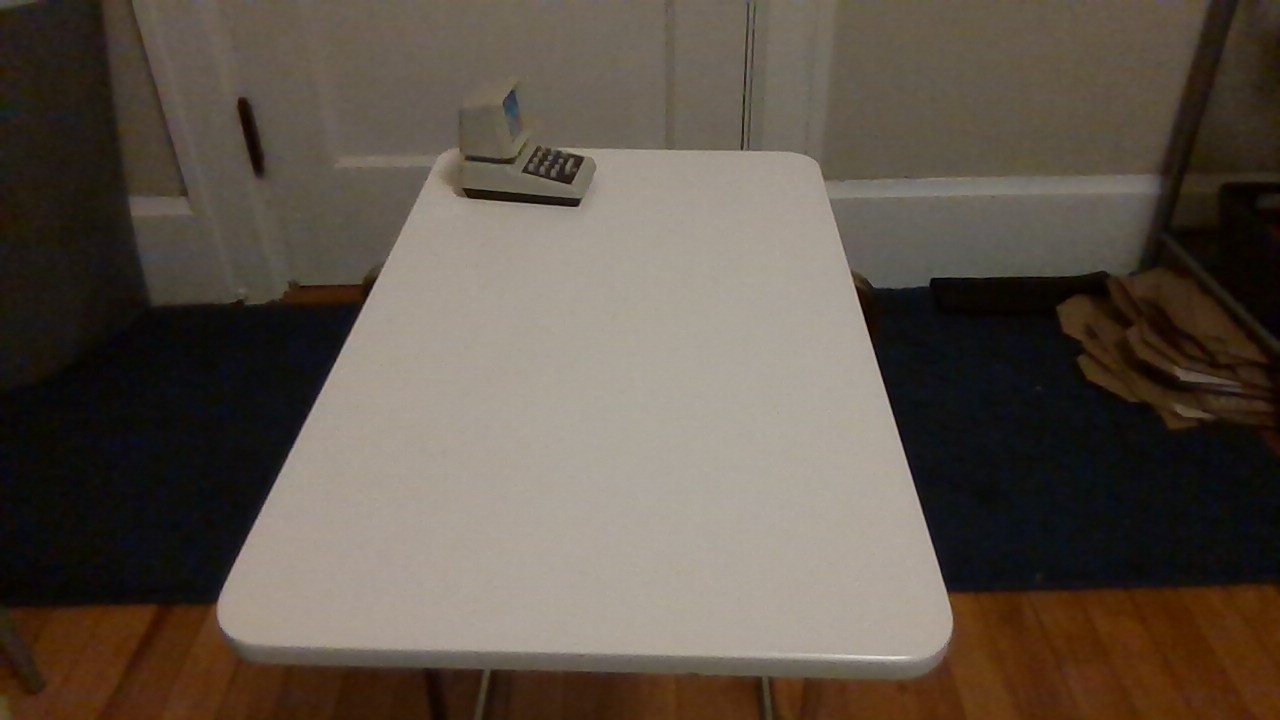Toy: (434, 62, 605, 221)
